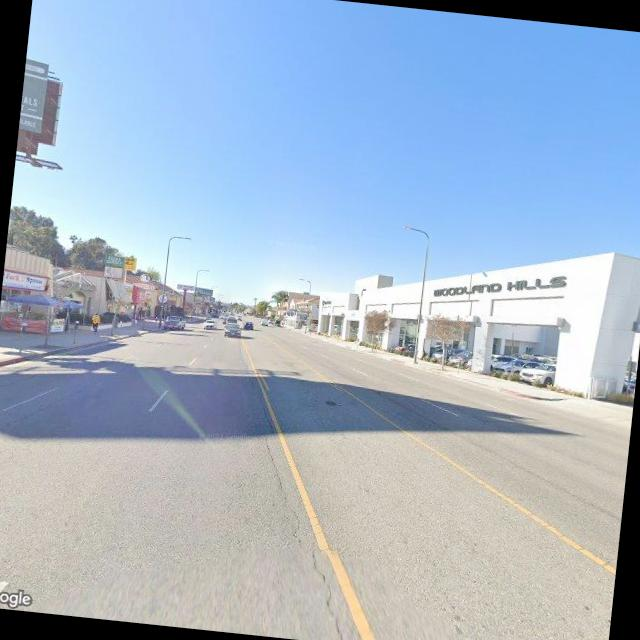crack: (242, 434, 356, 636)
